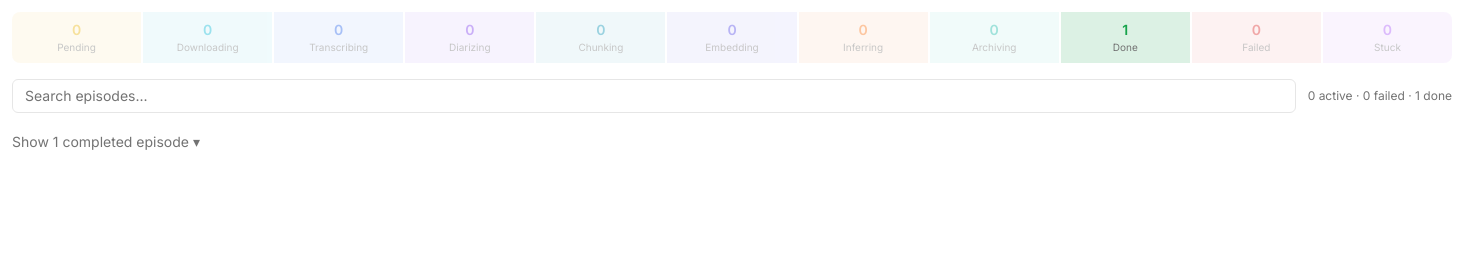
Scenario: QueueStatus › show/hide completed-episodes toggle reveals the done table
Expected: the text "Finished Ep" is not shown
Click the button "Show 1 completed episode ▾" at point(106, 142), box [12,132,200,152]
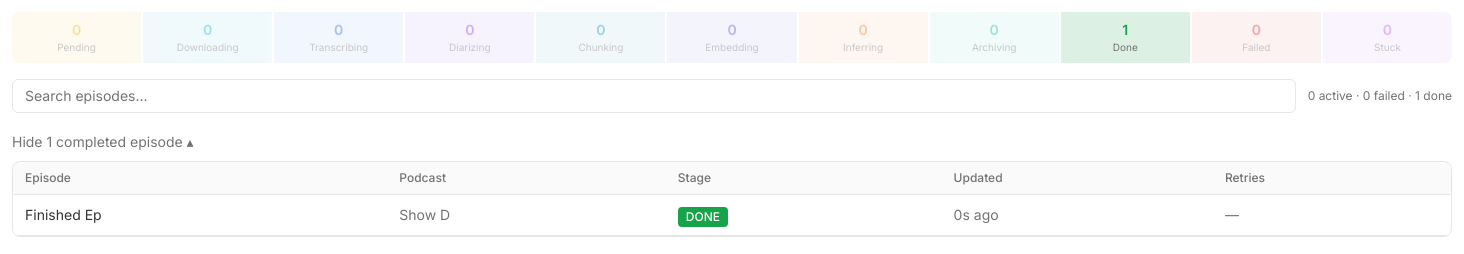
Expected: the link "Finished Ep" is shown, [25,206,102,223]
